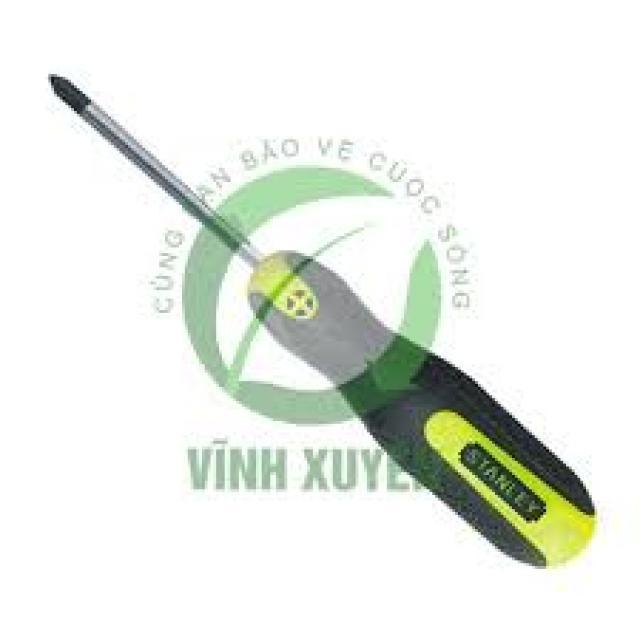screwdriver: (42, 66, 604, 574)
